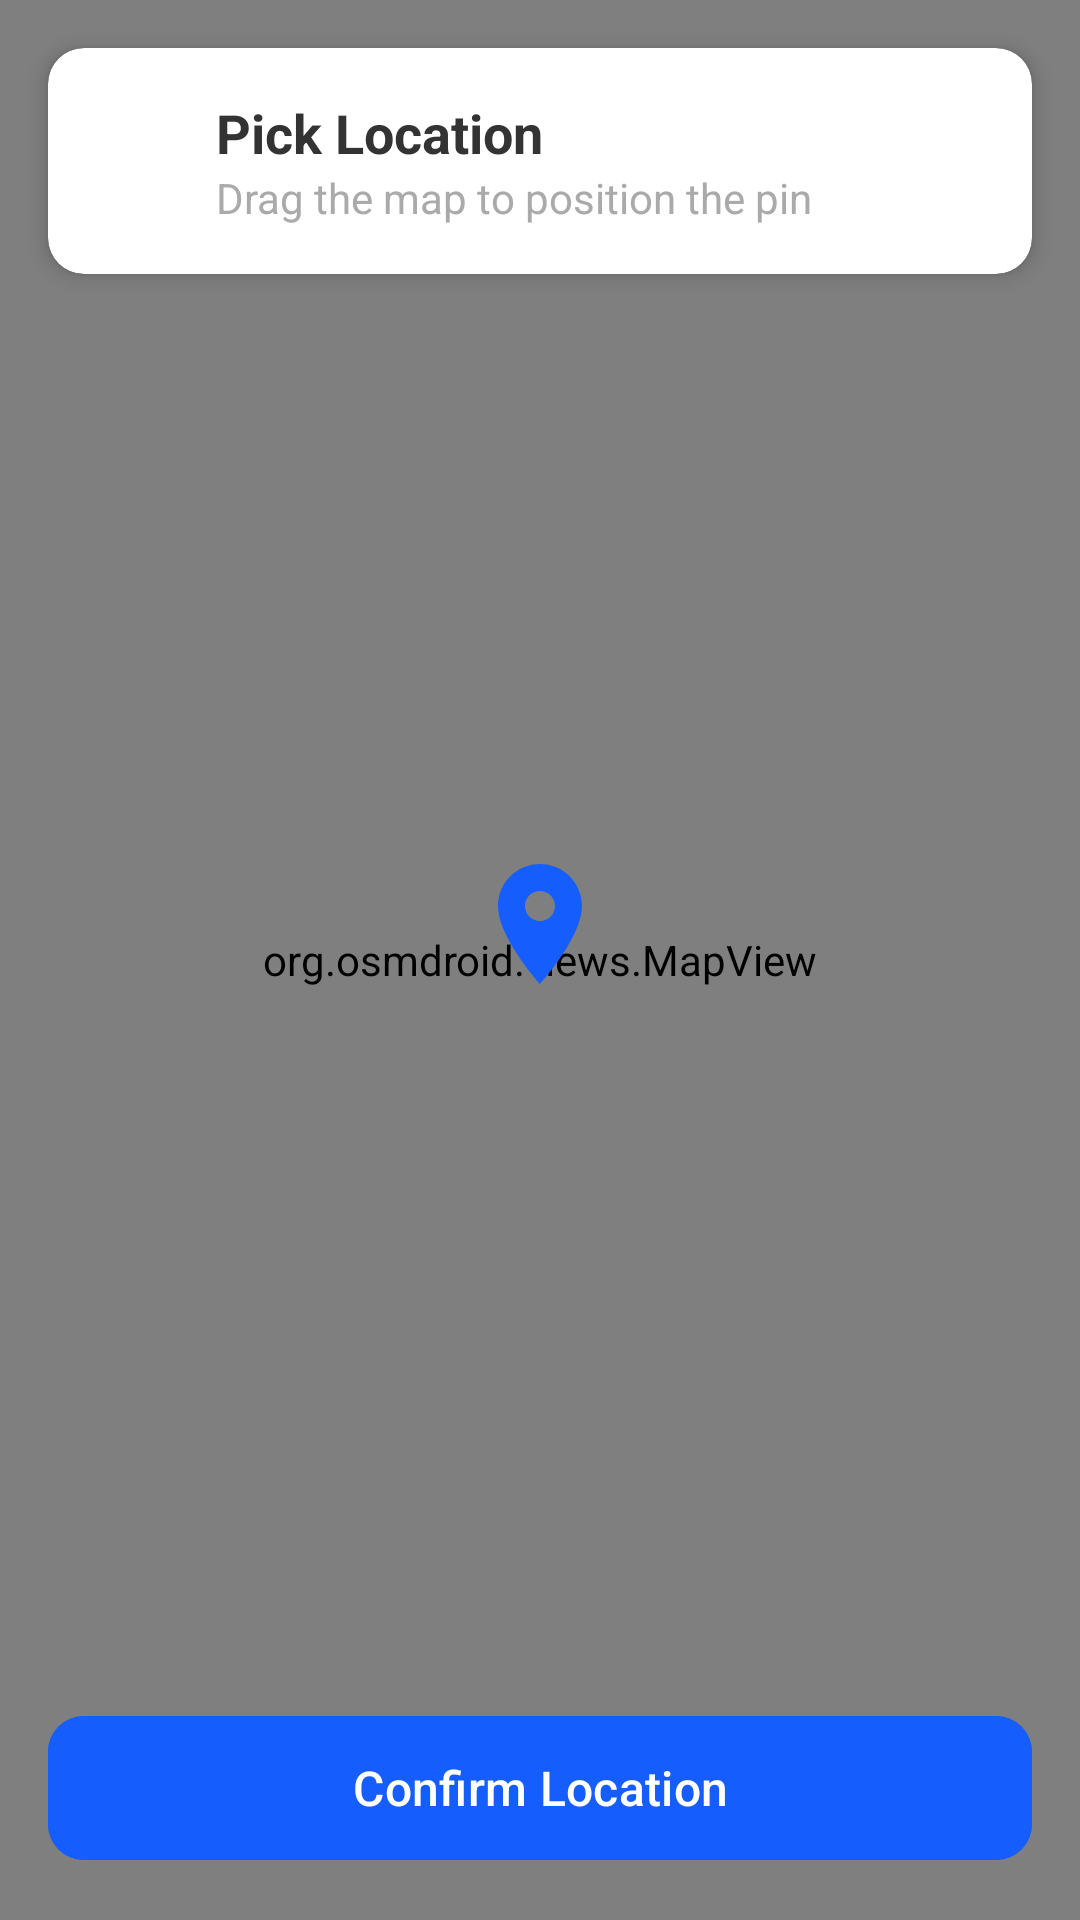

Icons on this 1080*1920 Android screen, each with its box as box=[x1, y1, x2, y2]:
location: box=[483, 864, 608, 984]
